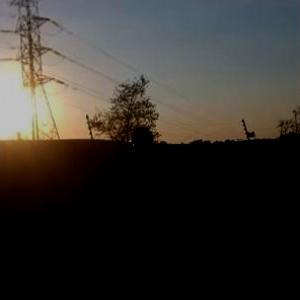follow: (112, 123, 184, 299)
